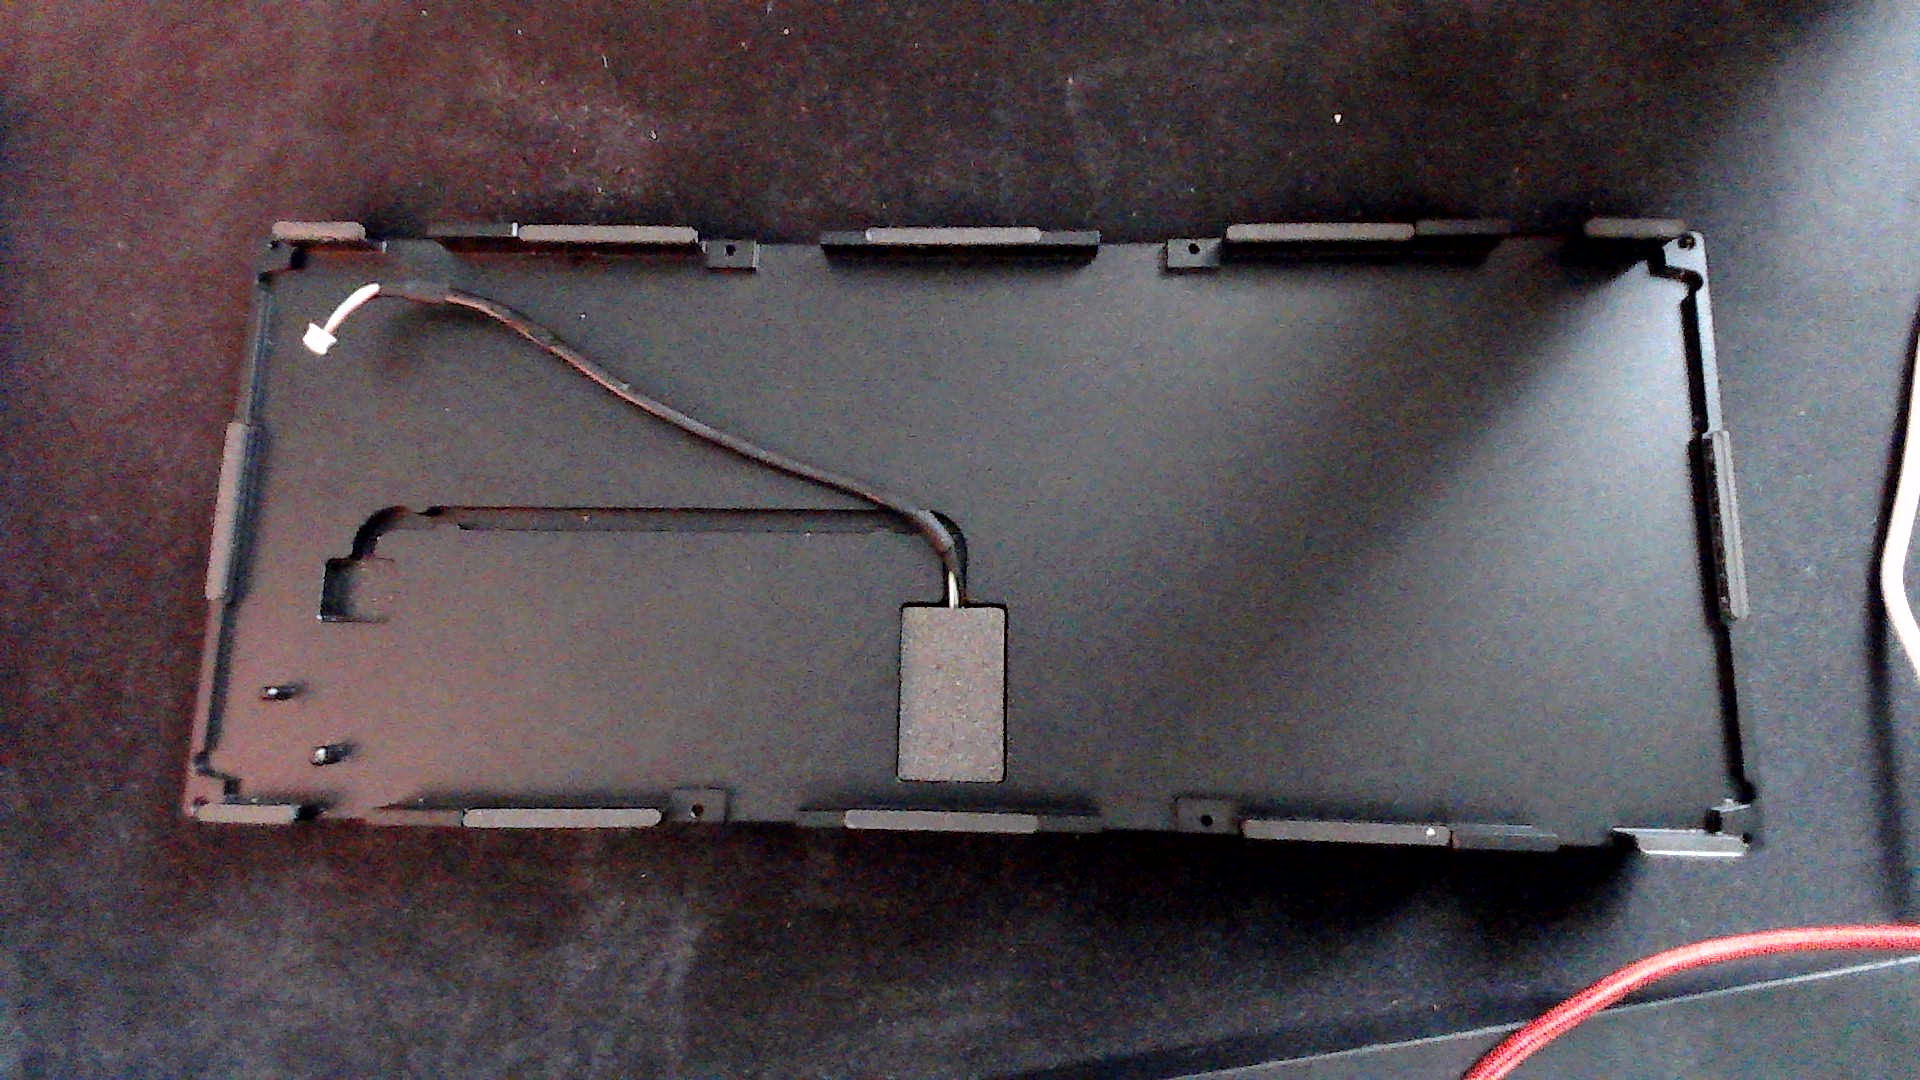case: (174, 174, 1775, 889)
